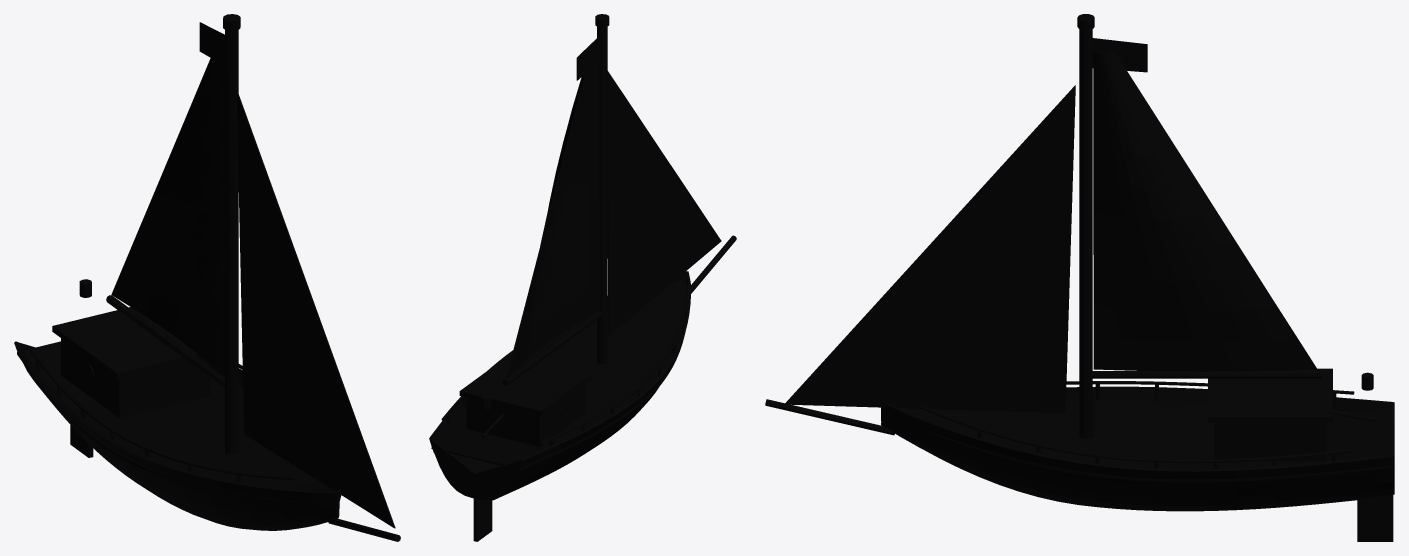
File: tidebreakers_coastal_sloop.obj-static.obj
3 views of the same model, side by side, from view 1: azimuth 30°, elevation 25°; view 2: azimuth 150°, elevation 25°; view 3: azimuth 270°, elevation 25° (orthographic). The views are drawn at different scales.
Visible parts, largest first — view 1: tidebreakers_coastal_sloop_mesh; view 2: tidebreakers_coastal_sloop_mesh; view 3: tidebreakers_coastal_sloop_mesh.
Part boxes in pixels (x1,y1,x2,y2): tidebreakers_coastal_sloop_mesh: (14,14,400,541); tidebreakers_coastal_sloop_mesh: (429,14,736,541); tidebreakers_coastal_sloop_mesh: (765,14,1394,541).
Size of the model in its own units: 3.87 by 11.28 by 12.3.
1 material, 1 textured.
